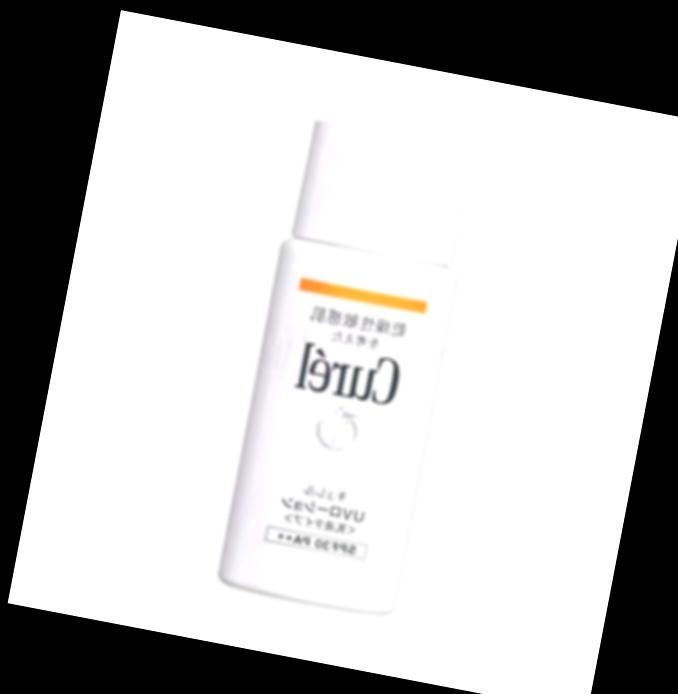cosmetic: (216, 112, 484, 614)
